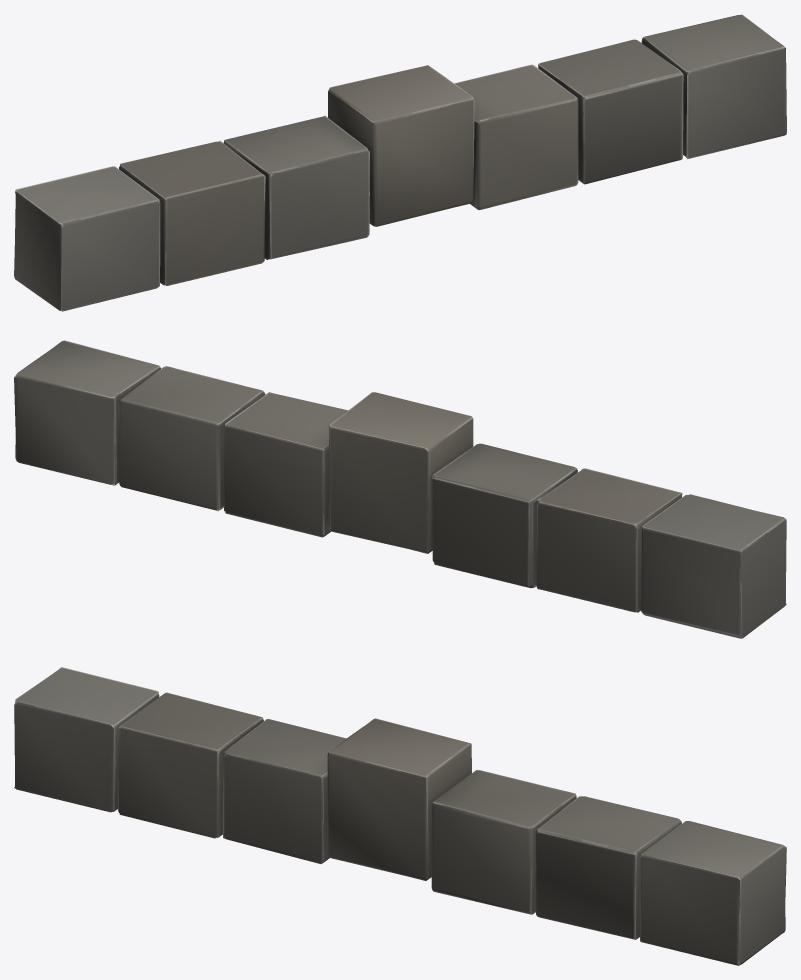
Rendered from gallows_gate_lintel.glb.
3 views of the same model, one above another, from view 1: azimuth 30°, elevation 25°; view 2: azimuth 150°, elevation 25°; view 3: azimuth 330°, elevation 25° (orthographic).
Visible parts, largest first — view 1: gallows_gate_lintel; view 2: gallows_gate_lintel; view 3: gallows_gate_lintel.
Part boxes in pixels (x1,y1,x2,y2): gallows_gate_lintel: (14, 14, 786, 311); gallows_gate_lintel: (14, 340, 786, 638); gallows_gate_lintel: (14, 667, 786, 965).
Size of the model in its own units: 8.98 by 1.37 by 1.02.
1 material, 1 textured.
